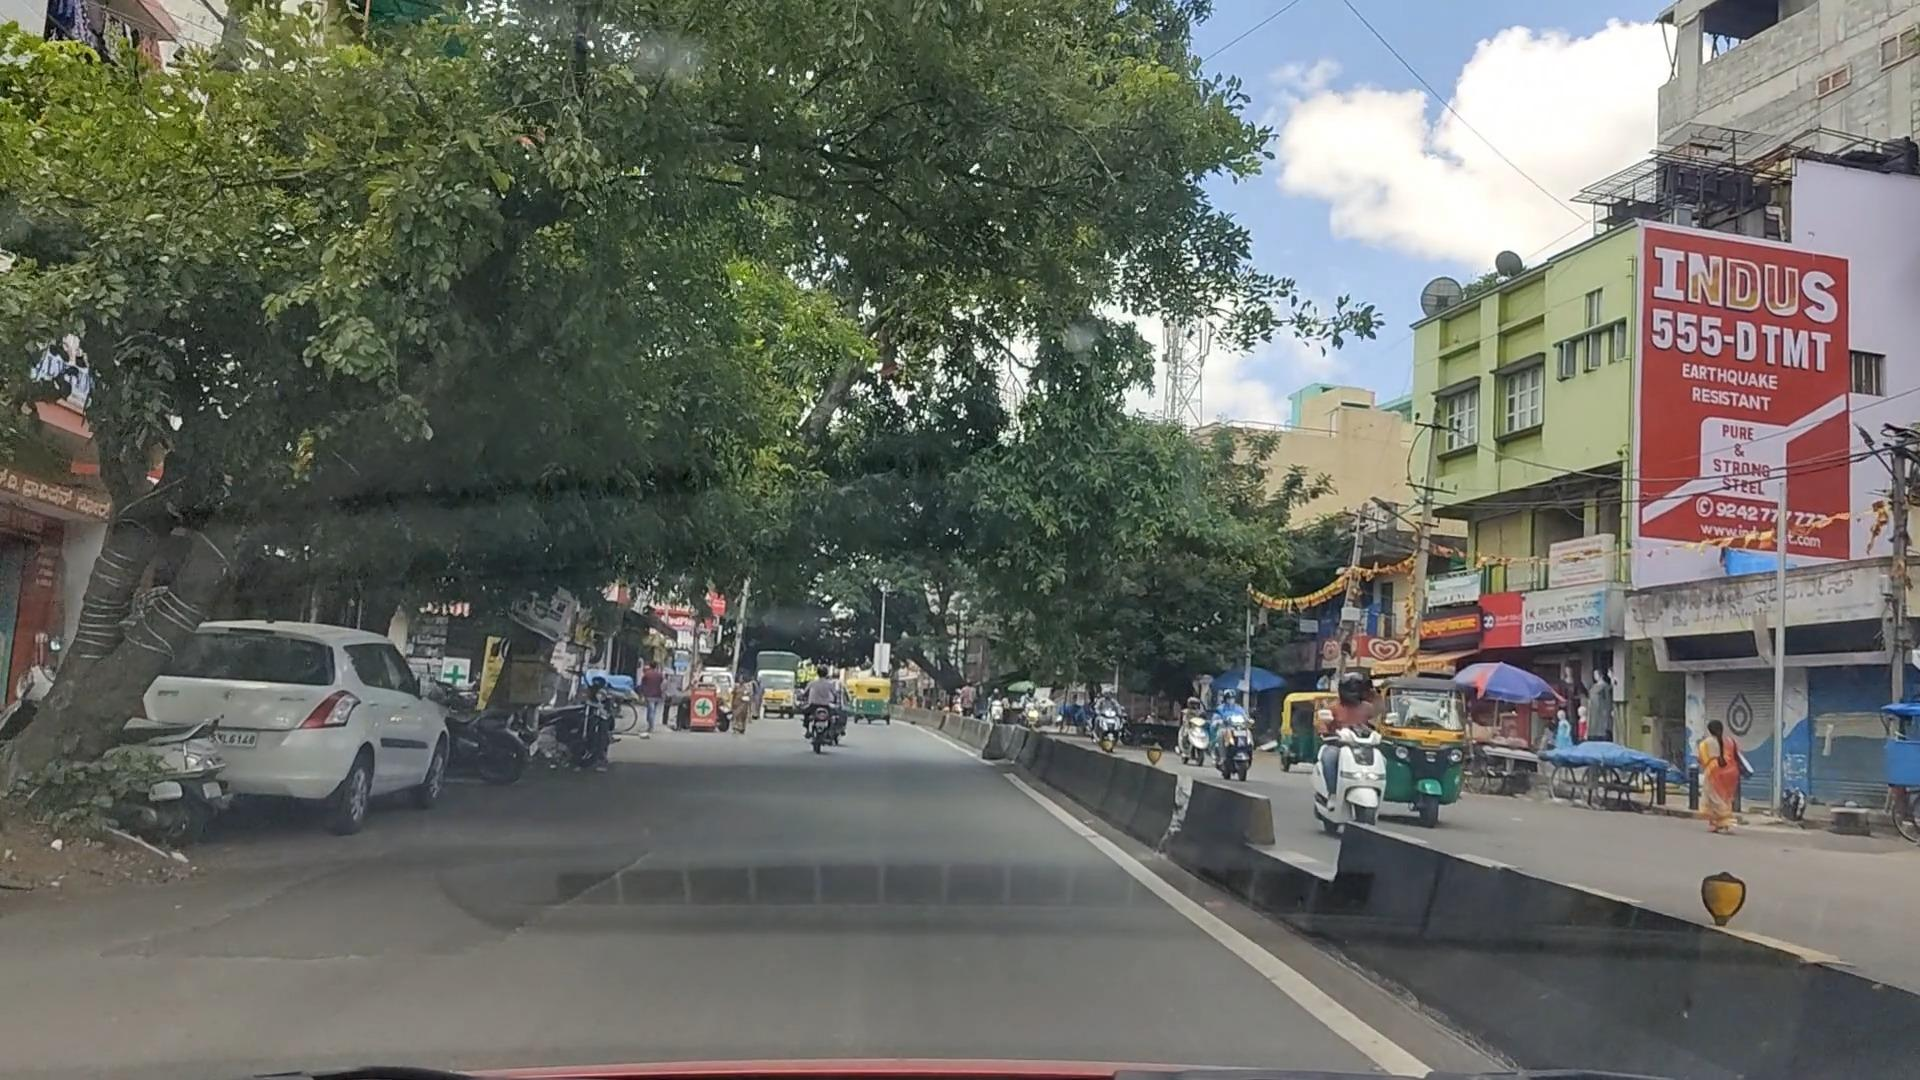RoadDamages: (198, 818, 641, 994)
